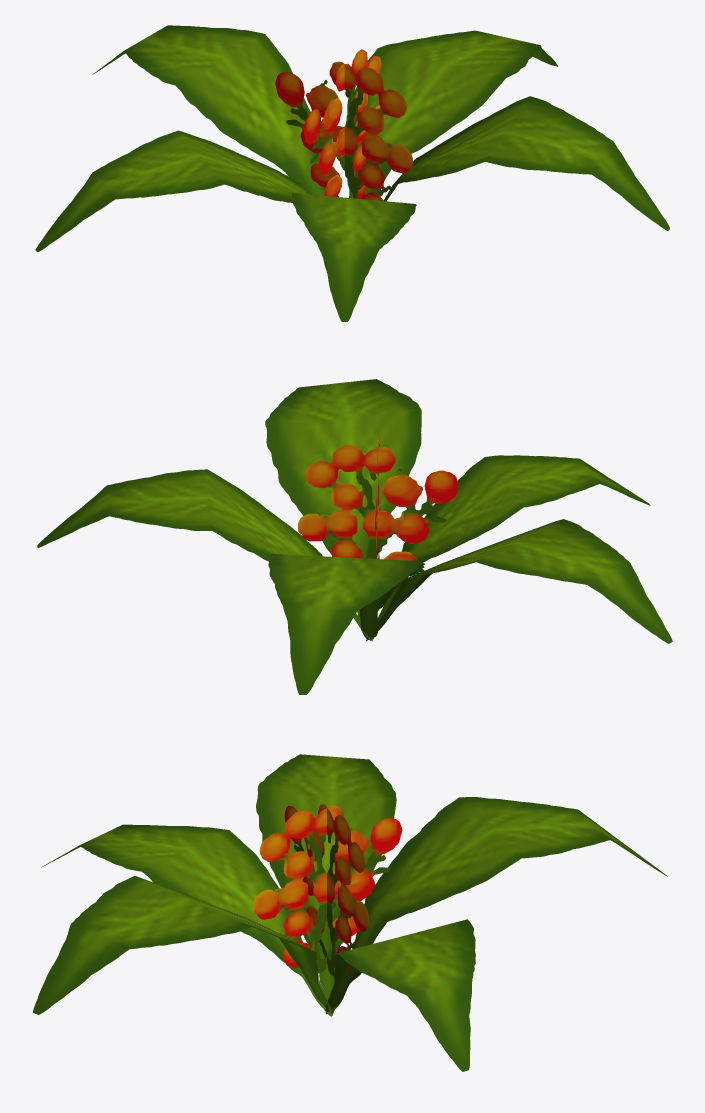
Rendered from herb02.obj.
3 views of the same model, one above another, from view 1: azimuth 30°, elevation 25°; view 2: azimuth 150°, elevation 25°; view 3: azimuth 270°, elevation 25° (orthographic). The views are drawn at different scales.
Parts seen in each view (by area): view 1: Triangles, Duplicate05, Duplicate04, Duplicate09, Duplicate06, Duplicate07; view 2: Duplicate04, Duplicate05, Triangles, Duplicate09, Duplicate07, Duplicate06; view 3: Triangles, Duplicate09, Duplicate04, Duplicate07, Duplicate05, Duplicate06.
Boxes of the visible parts, x1,y1,x2,y2 form: Triangles: (92, 25, 325, 195); Duplicate05: (346, 30, 557, 194); Duplicate04: (383, 96, 669, 230); Duplicate09: (275, 49, 412, 200); Duplicate06: (35, 130, 307, 251); Duplicate07: (292, 193, 416, 321); Duplicate04: (265, 379, 421, 640); Duplicate05: (37, 469, 372, 641); Triangles: (268, 554, 424, 694); Duplicate09: (298, 432, 458, 560); Duplicate07: (370, 455, 650, 640); Duplicate06: (366, 519, 672, 643); Triangles: (331, 797, 667, 1013); Duplicate09: (253, 804, 402, 976); Duplicate04: (33, 876, 331, 1014); Duplicate07: (41, 824, 326, 1009); Duplicate05: (325, 919, 475, 1071); Duplicate06: (256, 754, 396, 1016).
Size of the model in its own units: 43.75 by 13.68 by 39.81.
